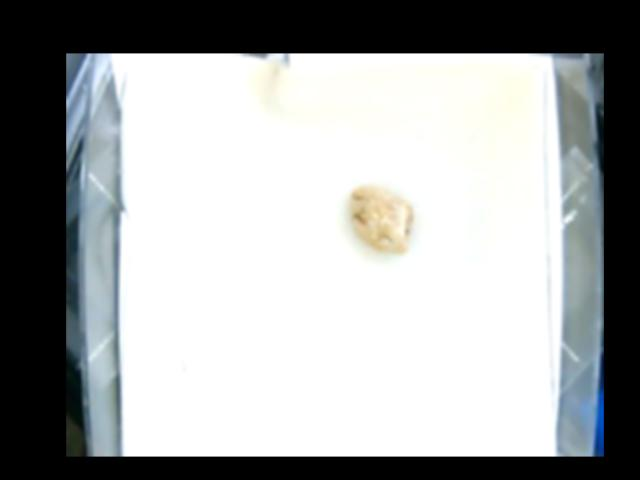Pebble: (349, 186, 412, 252)
